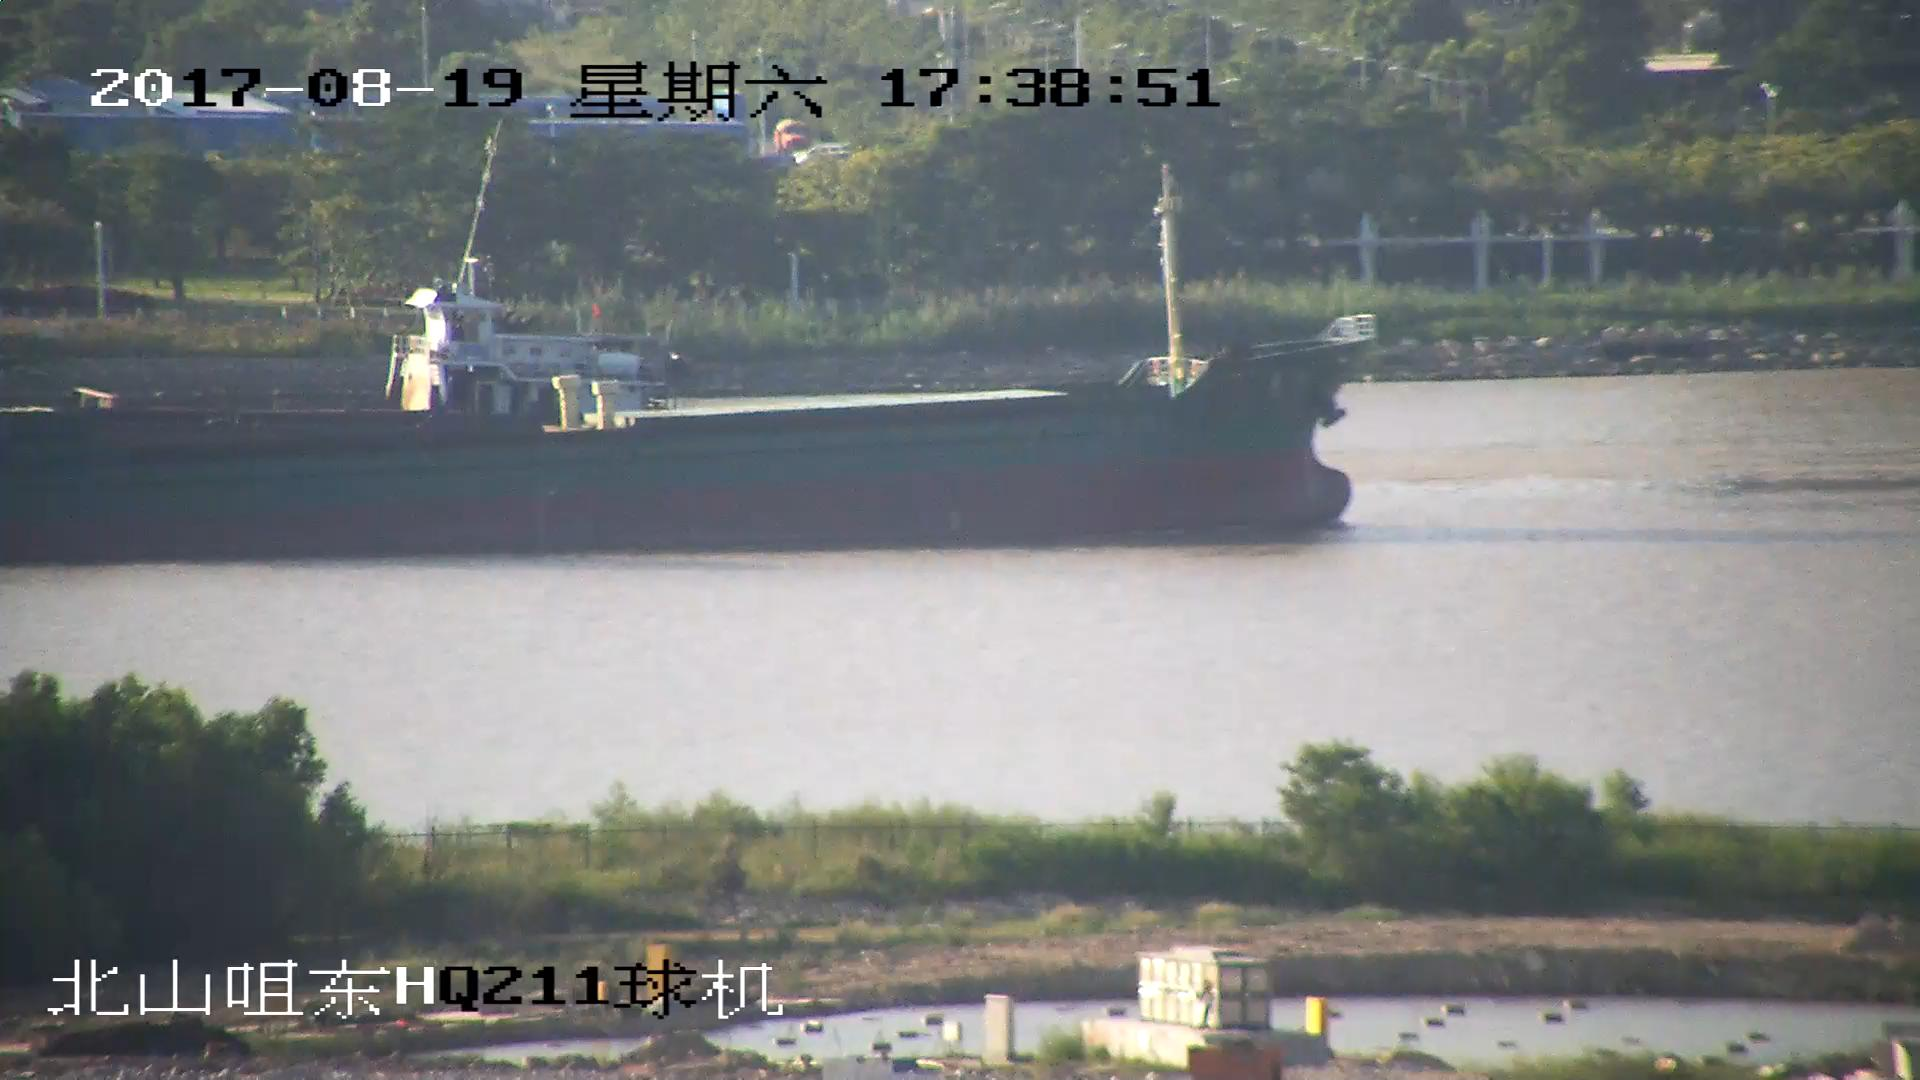general cargo ship: (1, 320, 1370, 543)
